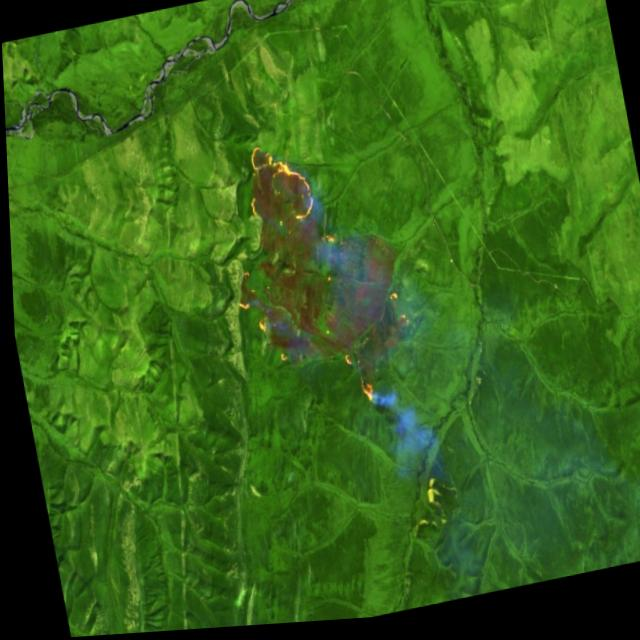fire: (201, 116, 424, 444)
